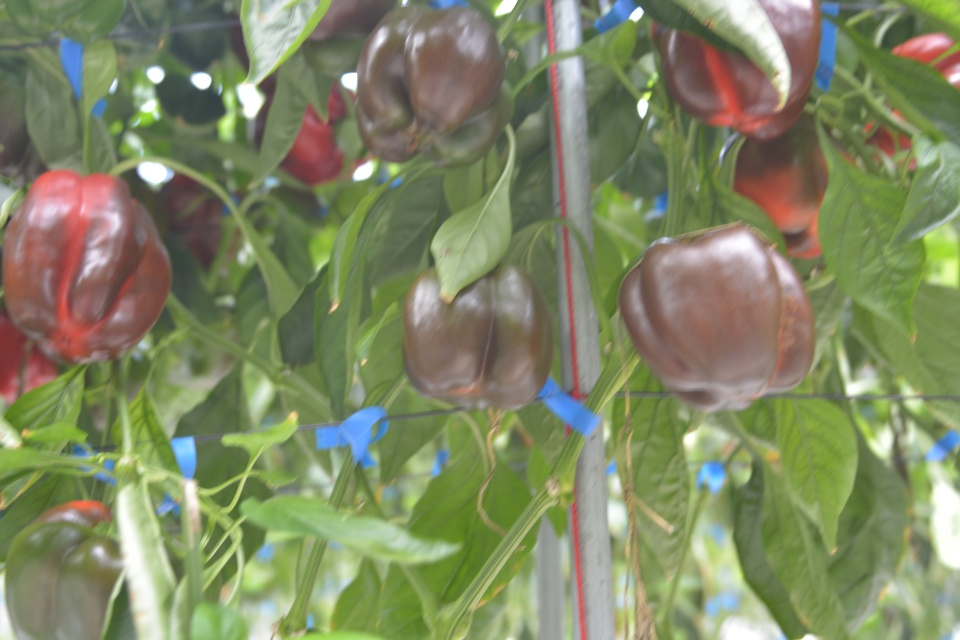fruit: (616, 220, 816, 413), (1, 167, 174, 364), (353, 0, 514, 168), (648, 0, 822, 144), (397, 258, 555, 414), (3, 495, 134, 640), (732, 111, 856, 257), (836, 32, 960, 173), (226, 0, 385, 98), (252, 80, 378, 186), (160, 172, 244, 271), (0, 315, 58, 401)
